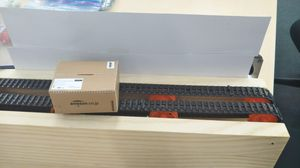box1: (48, 59, 119, 116)
